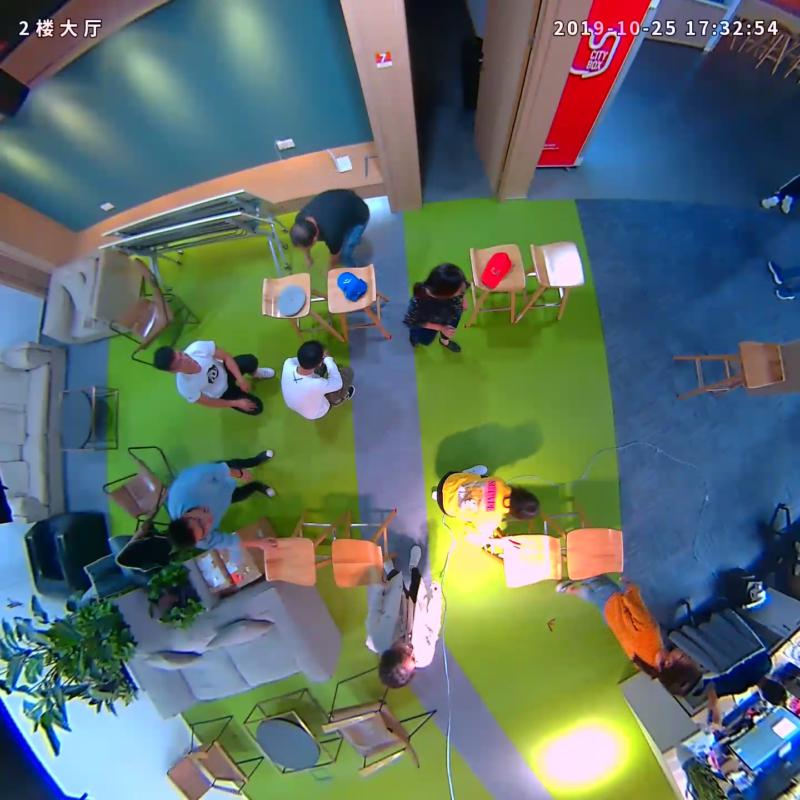head: (652, 643, 707, 698), (373, 640, 427, 689), (421, 260, 474, 308), (160, 506, 216, 548), (147, 343, 203, 382), (499, 484, 547, 524), (289, 335, 333, 377), (282, 216, 323, 251)
